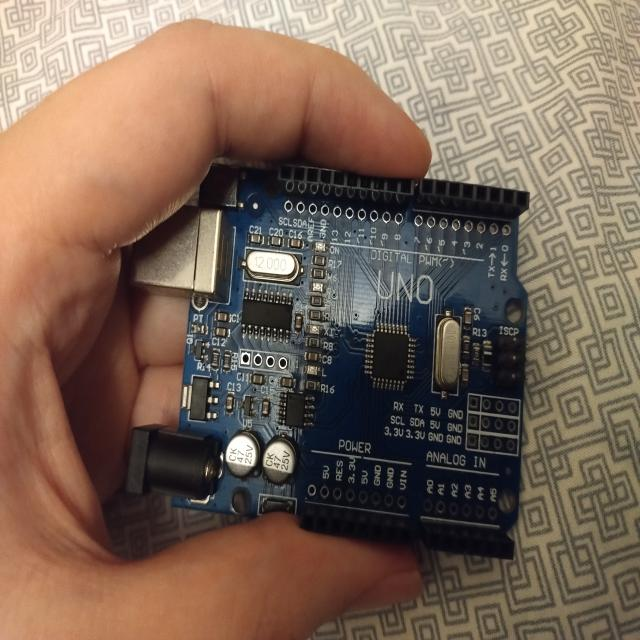arduino: (93, 136, 536, 574)
